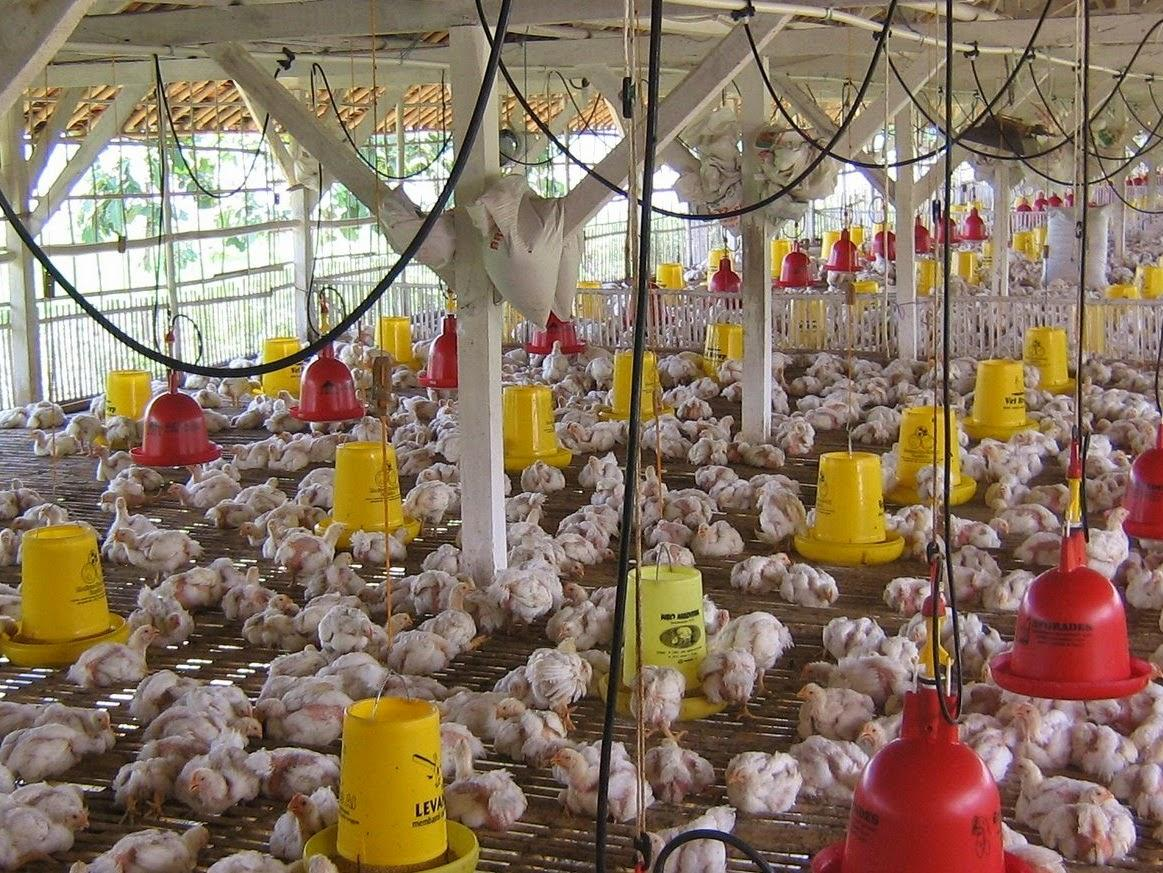chicken: (1007, 748, 1129, 858), (0, 784, 91, 864), (640, 803, 741, 873), (447, 737, 528, 822), (548, 748, 643, 815), (0, 725, 88, 793), (72, 623, 165, 684), (643, 732, 713, 802), (180, 750, 253, 817), (529, 632, 590, 710), (275, 788, 341, 857), (727, 748, 797, 812), (35, 702, 113, 747), (784, 565, 837, 612), (736, 547, 790, 593)
